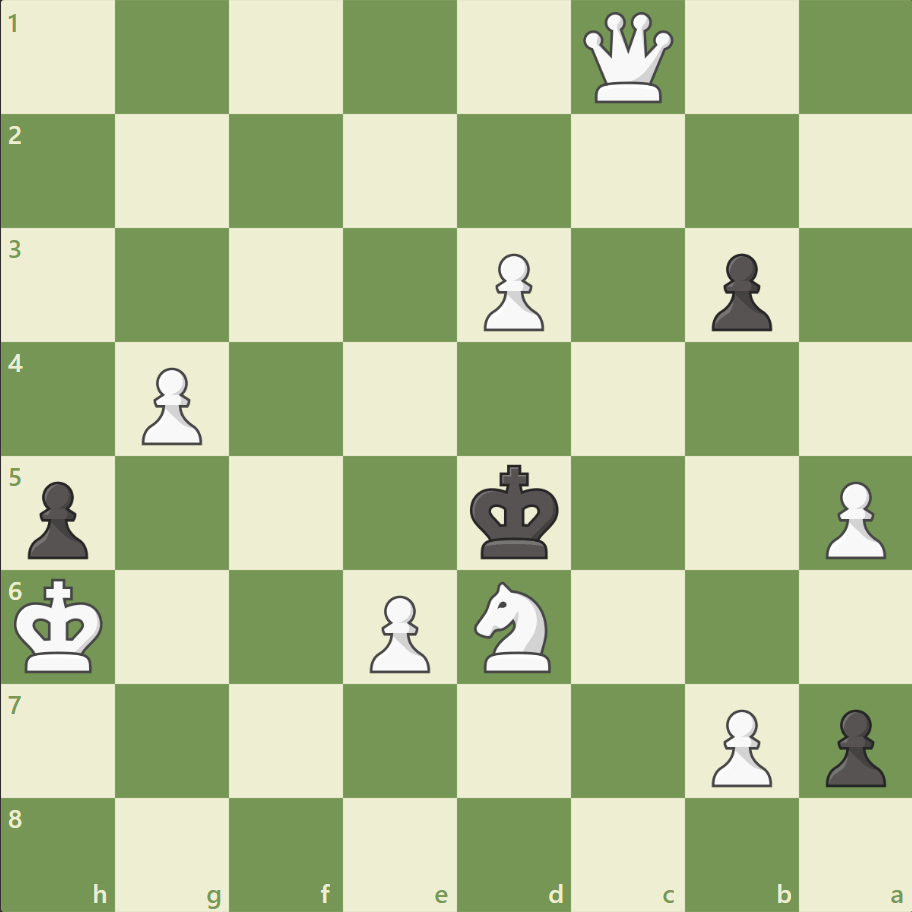K: (11, 571, 111, 679)
N: (465, 575, 562, 677)
P: (701, 700, 776, 791), (133, 359, 208, 450), (474, 246, 549, 337), (361, 586, 435, 677), (815, 473, 889, 564)
Q: (578, 9, 677, 108)
k: (465, 458, 565, 566)
p: (20, 473, 95, 564), (701, 246, 776, 337), (815, 700, 889, 791)
